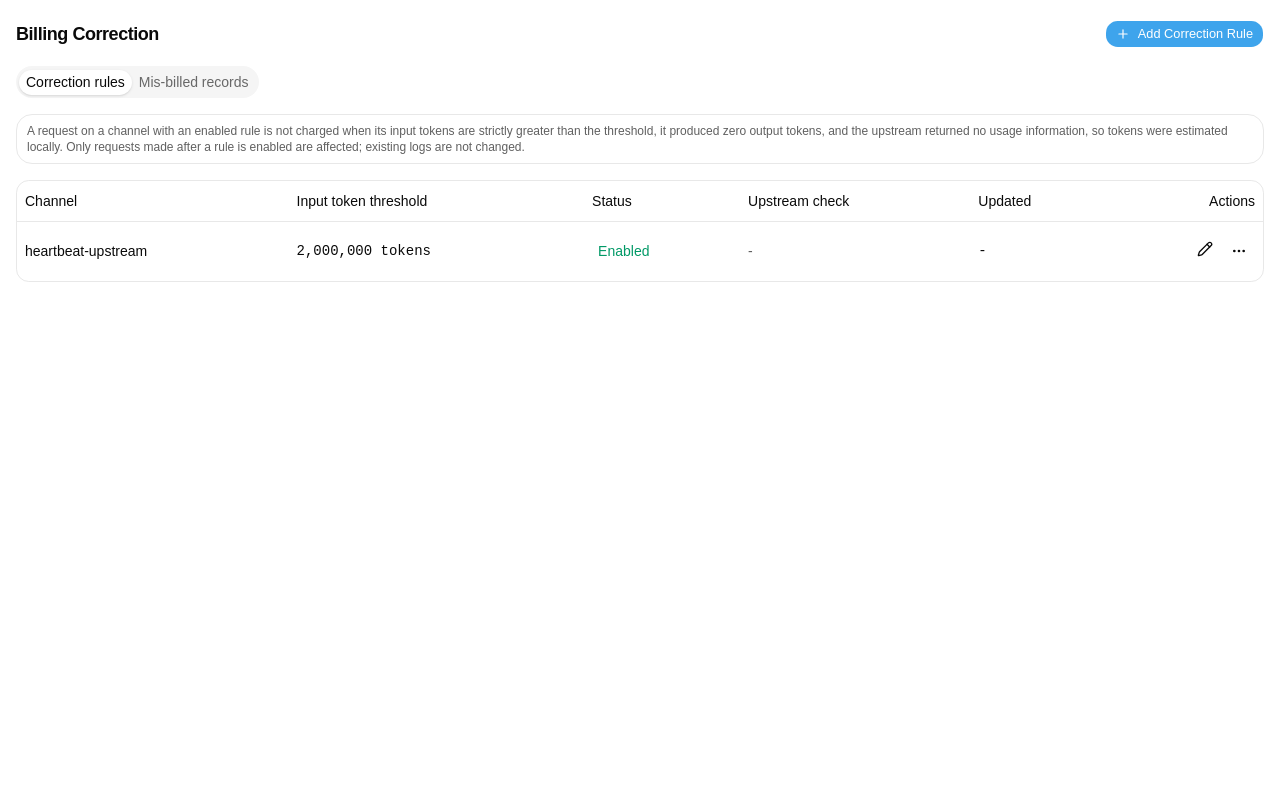
Test: billing correction page › keeps the dialog open and shows the server message when saving is rejected
This screenshot has width=1280, height=800.
Expected: the text "heartbeat-upstream" is shown, [25,243,147,259]
What coordinates should you click on to do the following:
click the button named "Edit"
I would click on:
 (1205, 249)
Its box is [1191,235,1219,263].
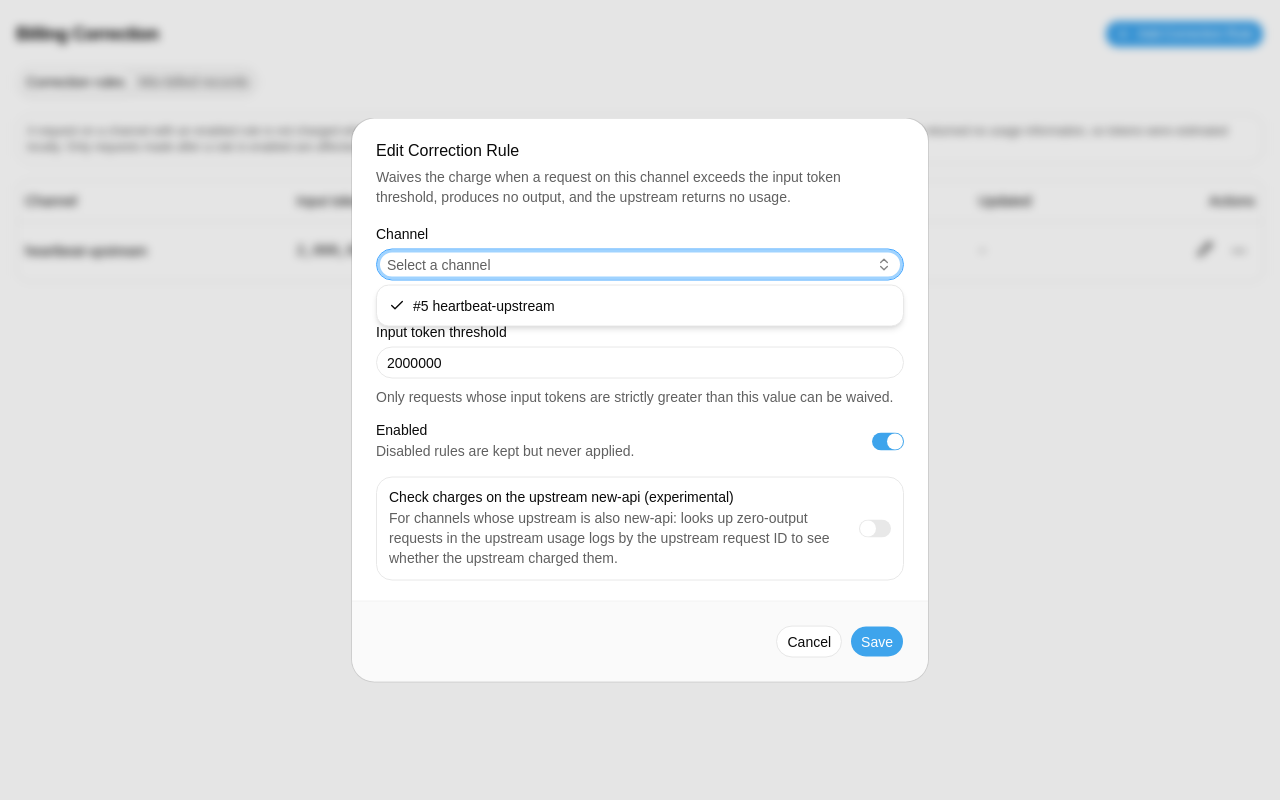
Result: the number field labelled "Input token threshold" holds "2000000" at [376,346,904,378]
What coordinates should you click on to do the following:
click the button "Save"
I would click on:
 (877, 642)
Its box is [850,626,904,658].
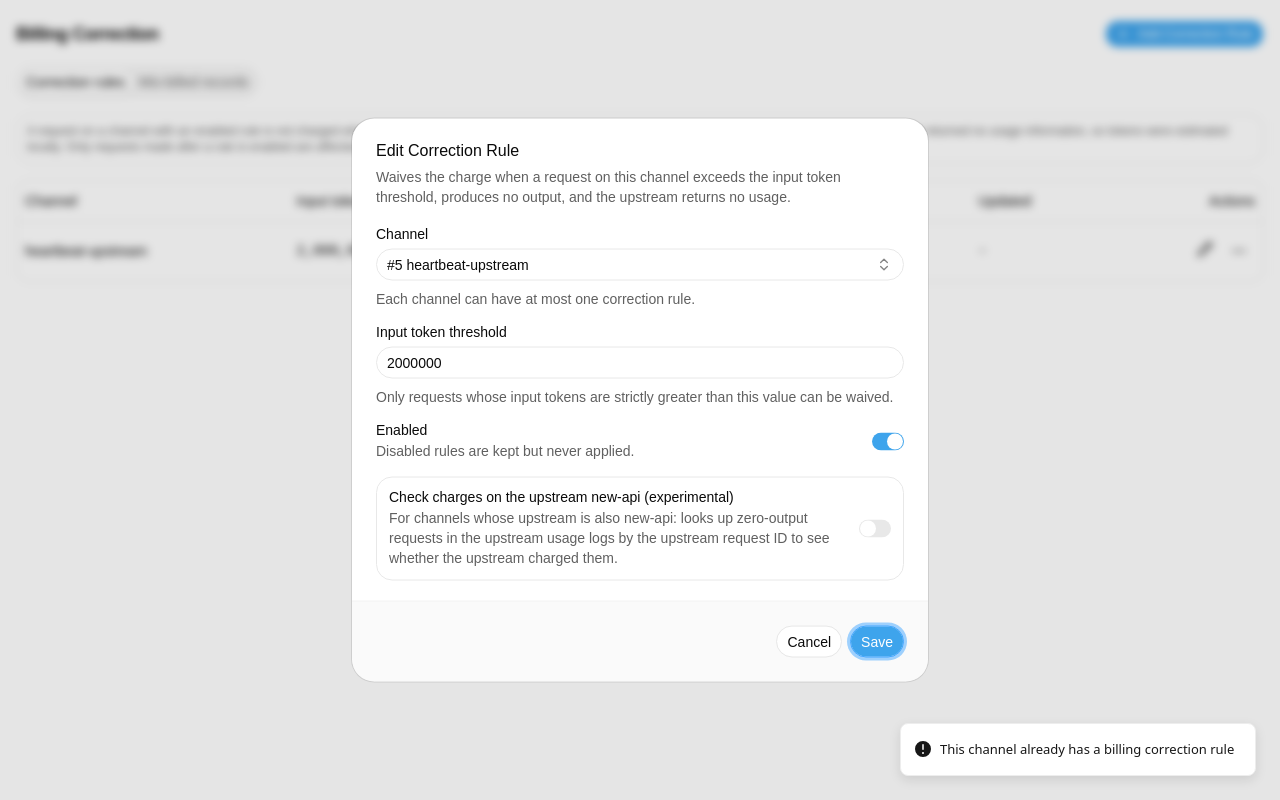
Result: the heading "Edit Correction Rule" is shown at [376,142,519,158]
Result: the text "This channel already has a billing correction rule" is shown at [940,740,1234,759]
